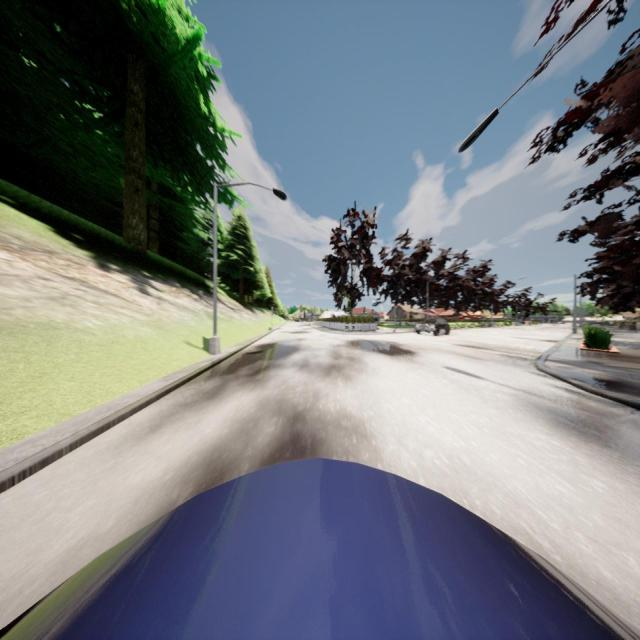Vehicle: (0, 459, 640, 640), (415, 317, 450, 336)
